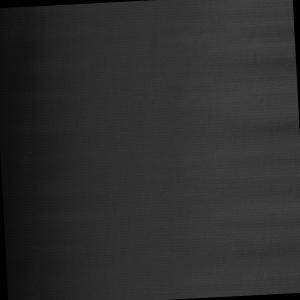Wrinkle: (166, 1, 300, 277), (1, 3, 110, 284)
